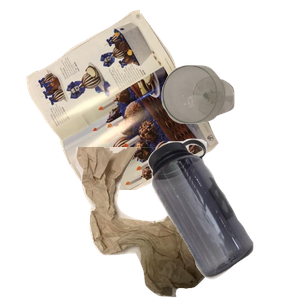glass: (159, 63, 300, 179)
paper: (24, 10, 235, 190)
plastic: (145, 136, 300, 300)
trash: (73, 147, 300, 300)
